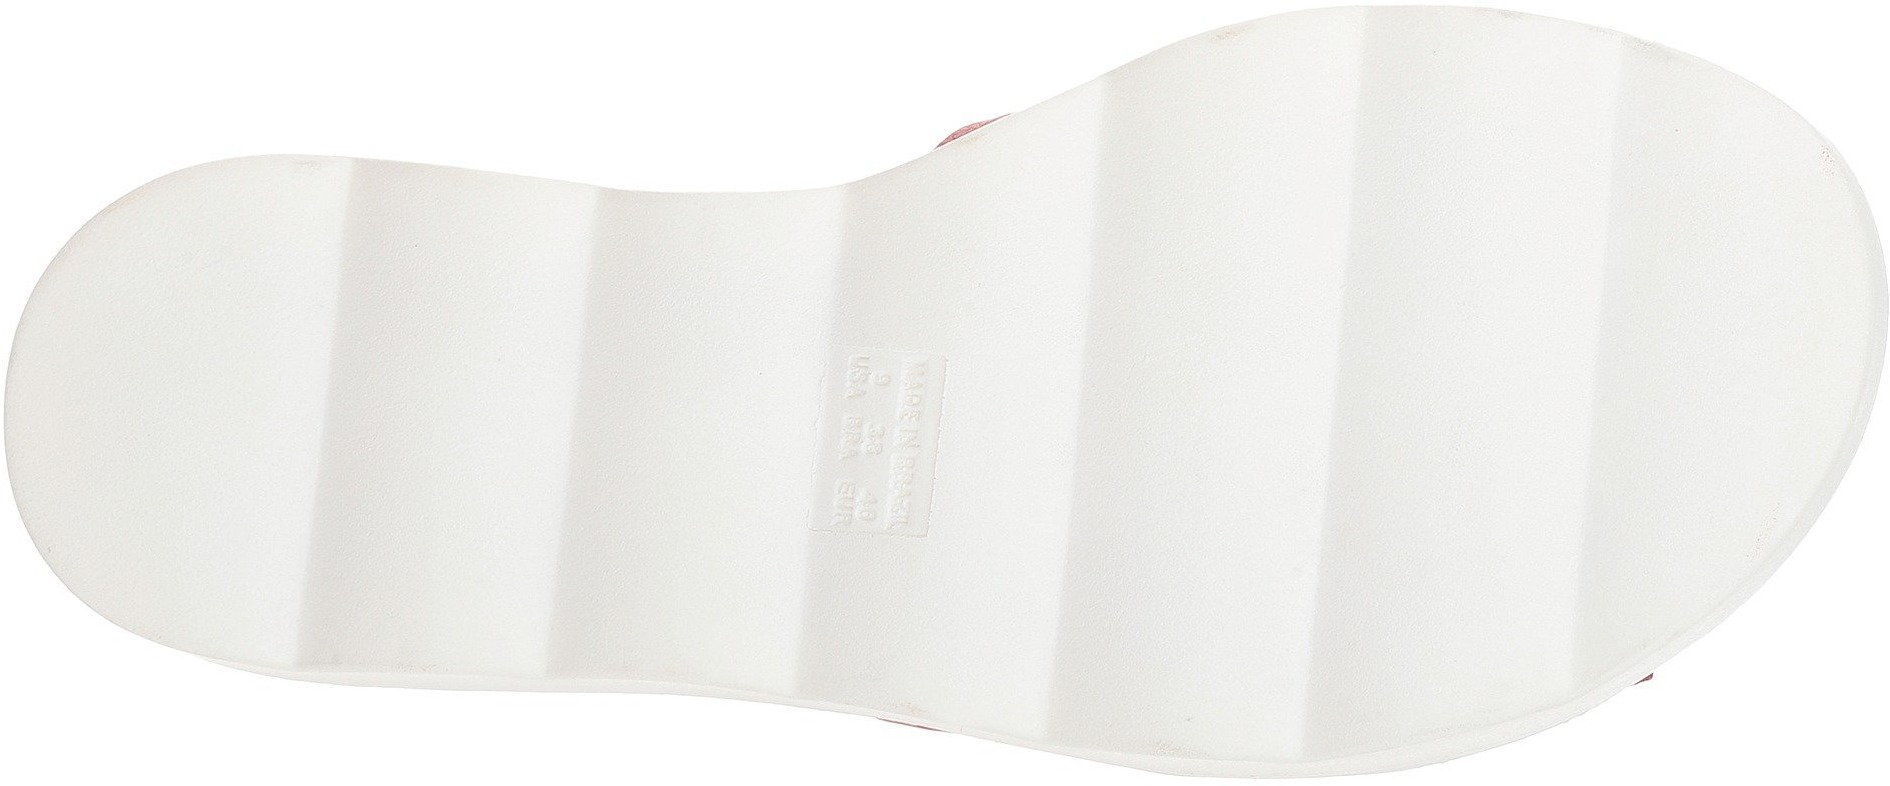other: (55, 271, 310, 540), (1074, 426, 1323, 699), (1616, 230, 1851, 488), (1337, 469, 1584, 703), (1350, 242, 1579, 468), (331, 461, 548, 680), (1119, 71, 1345, 281), (569, 459, 800, 663), (606, 205, 827, 417), (353, 237, 573, 450)
text: (839, 354, 955, 474)
